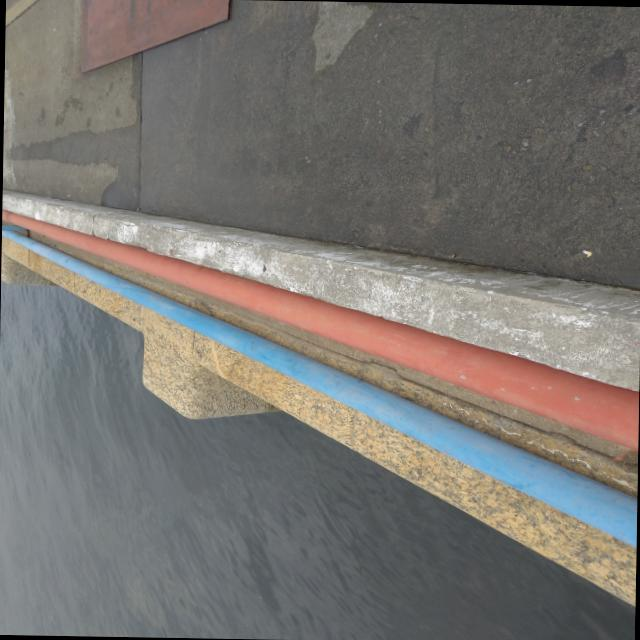gas: (1, 229, 637, 545), (2, 209, 639, 448)
